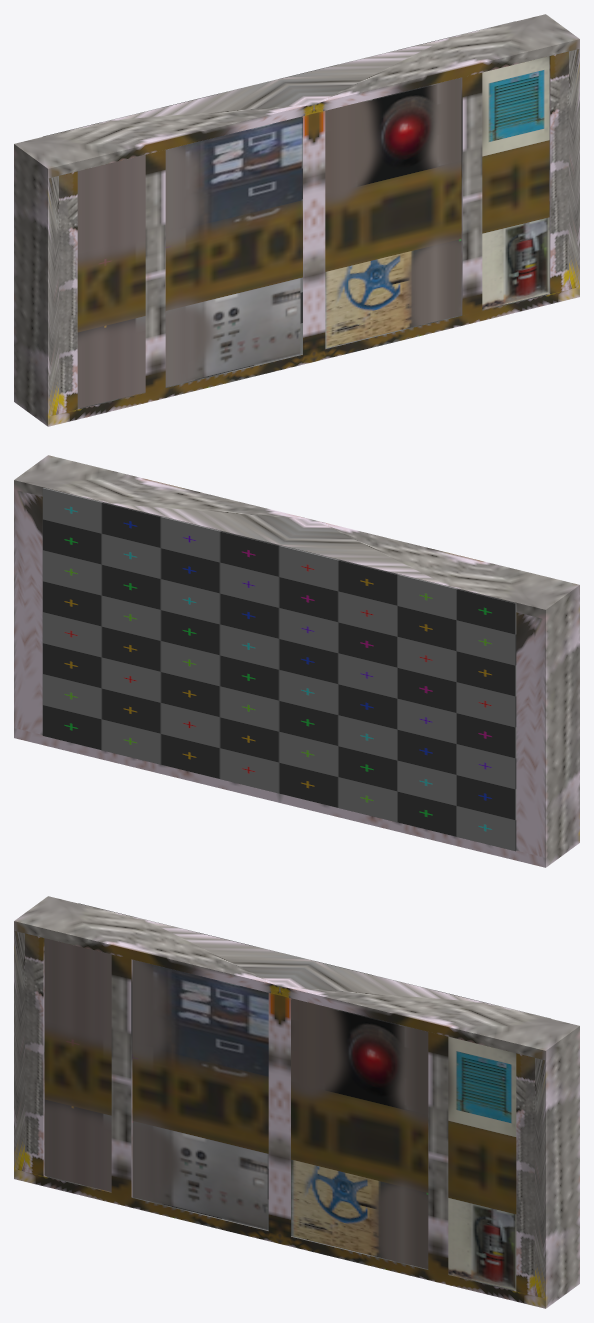
Rendered from Window.fbx.
3 views of the same model, one above another, from view 1: azimuth 30°, elevation 25°; view 2: azimuth 150°, elevation 25°; view 3: azimuth 330°, elevation 25° (orthographic).
Visible parts, largest first — view 1: Glass, Frame; view 2: Glass, Frame; view 3: Glass, Frame.
Boxes of the visible parts, x1=… form: Glass: x1=43, y1=21, x2=549, y2=408; Frame: x1=14, y1=14, x2=579, y2=426; Glass: x1=42, y1=488, x2=516, y2=851; Frame: x1=14, y1=455, x2=579, y2=867; Glass: x1=44, y1=903, x2=550, y2=1290; Frame: x1=14, y1=896, x2=579, y2=1308.
Bounding box in the file's own units: 1799 × 834 × 205.
Materials: 2 (2 with a texture image).
